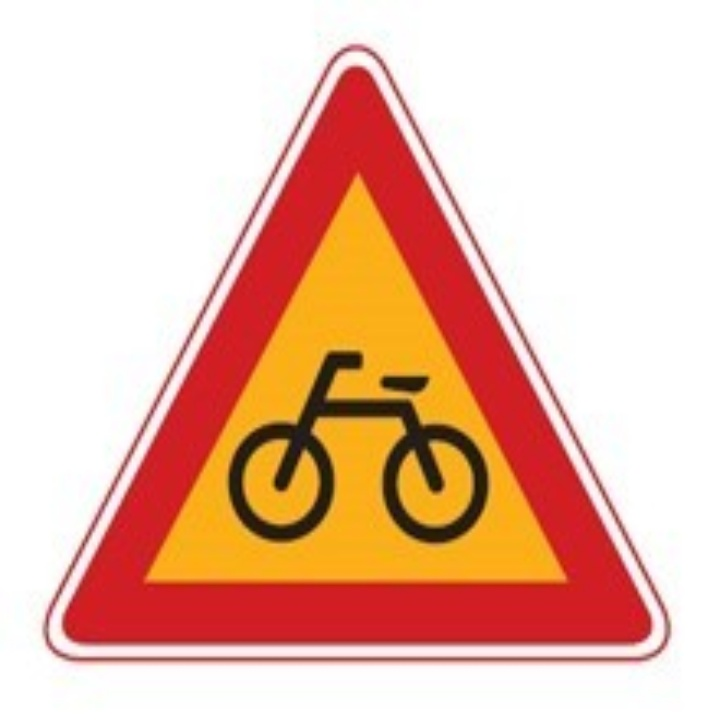bicycle: (58, 56, 660, 655)
